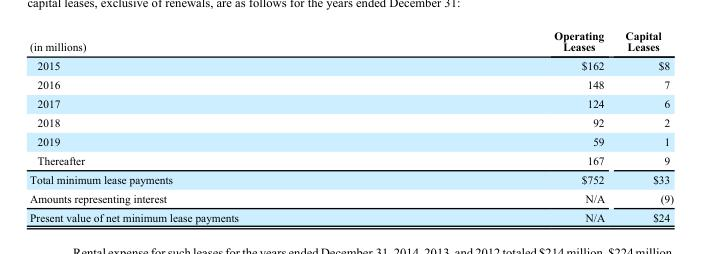table: (29, 28, 672, 223)
table column: (29, 28, 395, 223), (395, 28, 614, 223), (614, 28, 672, 223)
table column header: (29, 28, 672, 56)
table row: (29, 28, 672, 56), (29, 56, 672, 75), (29, 93, 672, 112), (29, 112, 672, 131), (29, 131, 672, 150), (29, 150, 672, 169), (29, 169, 672, 188), (29, 188, 672, 207), (29, 75, 672, 93), (29, 207, 672, 223)
